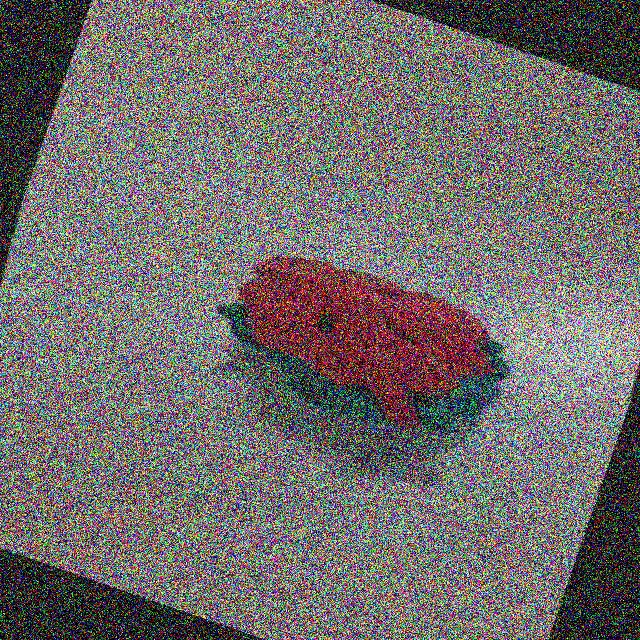House: (186, 212, 551, 480)
